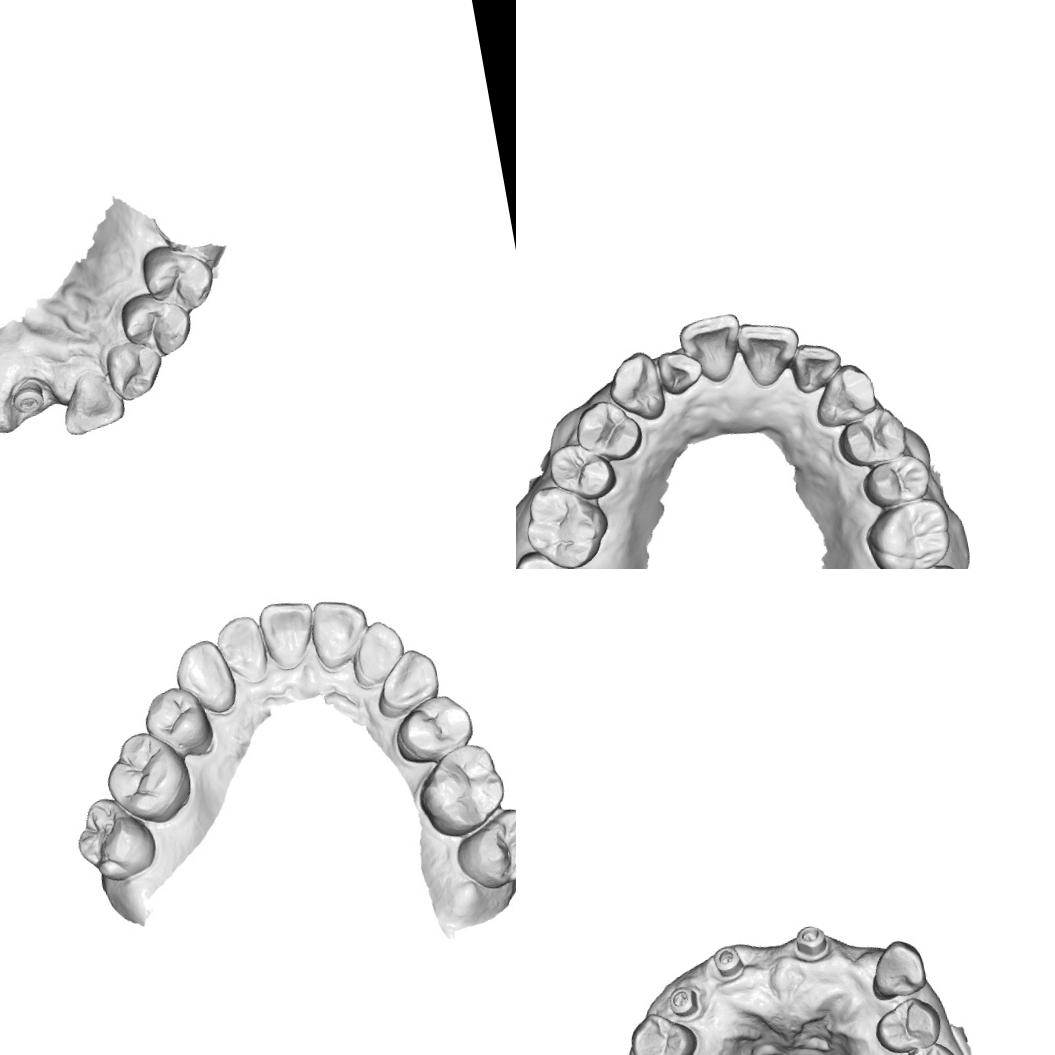canine: (168, 634, 242, 721), (806, 358, 880, 431), (602, 348, 669, 428), (370, 644, 444, 716), (101, 335, 170, 404), (864, 935, 931, 1004)
implant: (788, 920, 834, 965), (708, 940, 749, 983), (664, 980, 704, 1020)
implant_minus: (8, 371, 53, 422)
incisor: (674, 309, 750, 389), (732, 312, 806, 390), (306, 590, 374, 670), (254, 594, 319, 676), (53, 367, 128, 438), (211, 609, 271, 688), (349, 616, 409, 686), (785, 336, 846, 396), (653, 344, 707, 398)
molar: (408, 737, 512, 844), (97, 724, 198, 832), (516, 476, 613, 569), (68, 788, 160, 884), (859, 494, 957, 569), (448, 802, 516, 896), (516, 541, 598, 569)
premolar: (135, 234, 222, 316), (389, 689, 478, 769), (116, 284, 197, 364), (139, 679, 217, 762), (831, 402, 911, 472), (570, 393, 646, 466), (867, 991, 946, 1055), (544, 434, 616, 501), (857, 450, 935, 511), (624, 1005, 701, 1055), (886, 1038, 962, 1055)
